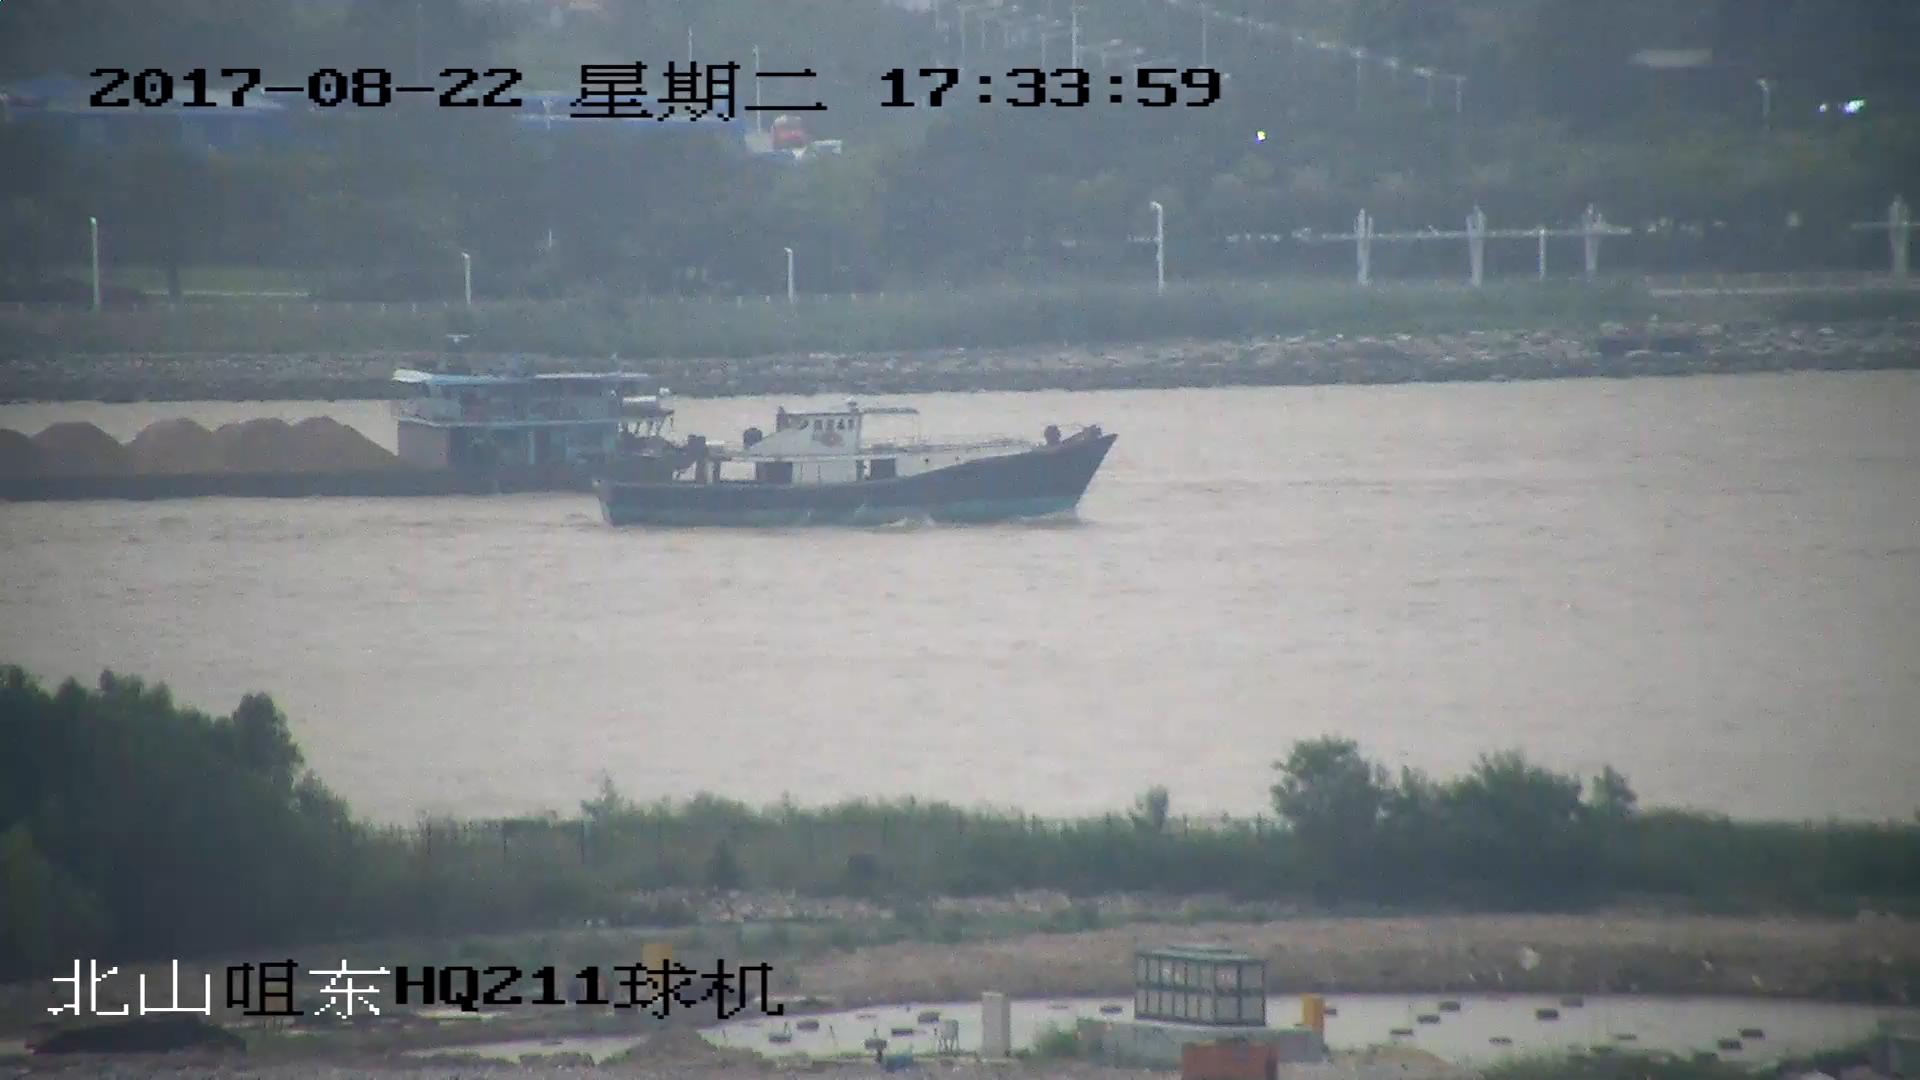fishing boat: (597, 399, 1118, 533)
ore carrier: (1, 341, 678, 493)
